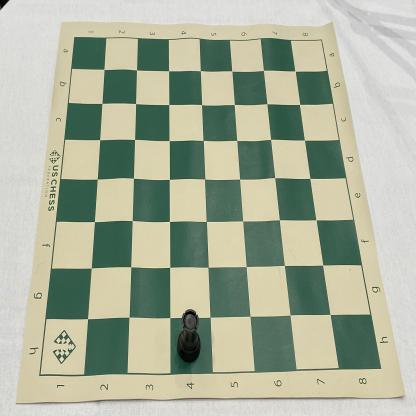black-rook: (176, 309, 202, 363)
